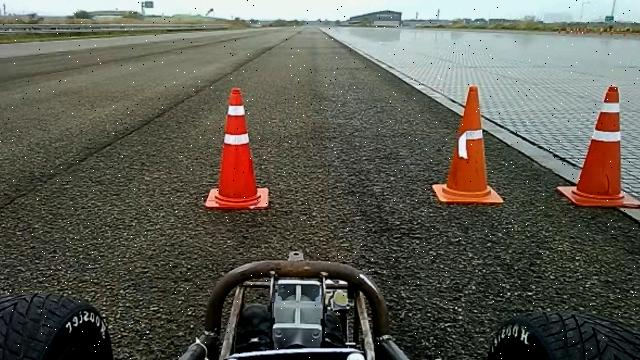red cone: (556, 84, 640, 208), (432, 84, 504, 206), (205, 87, 270, 210)
